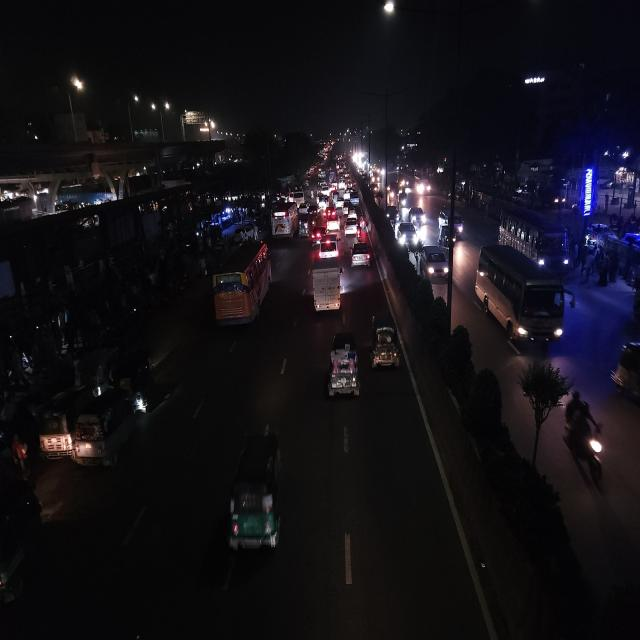bus: (473, 243, 573, 350), (207, 236, 273, 332), (494, 206, 574, 273), (270, 197, 298, 240), (290, 188, 306, 206)
car: (419, 243, 451, 283), (350, 238, 374, 274), (396, 220, 418, 250), (438, 211, 464, 234), (318, 234, 339, 261), (620, 229, 640, 252), (408, 204, 426, 227), (325, 211, 340, 233), (386, 204, 400, 227), (344, 216, 359, 237), (311, 224, 323, 248), (318, 192, 329, 208), (336, 198, 344, 210)
cng: (224, 421, 285, 565), (71, 387, 133, 474), (114, 346, 156, 421), (35, 395, 74, 466), (326, 326, 360, 406), (369, 311, 401, 376), (436, 227, 457, 250), (296, 216, 312, 237)
motorcycle: (558, 387, 608, 488)
pickup_van: (349, 192, 360, 205)
truck: (308, 258, 344, 320)
